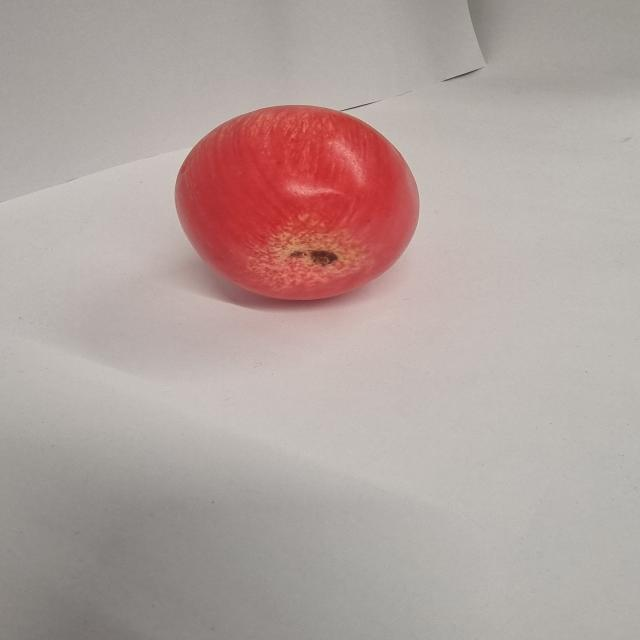apple: (175, 105, 418, 300)
